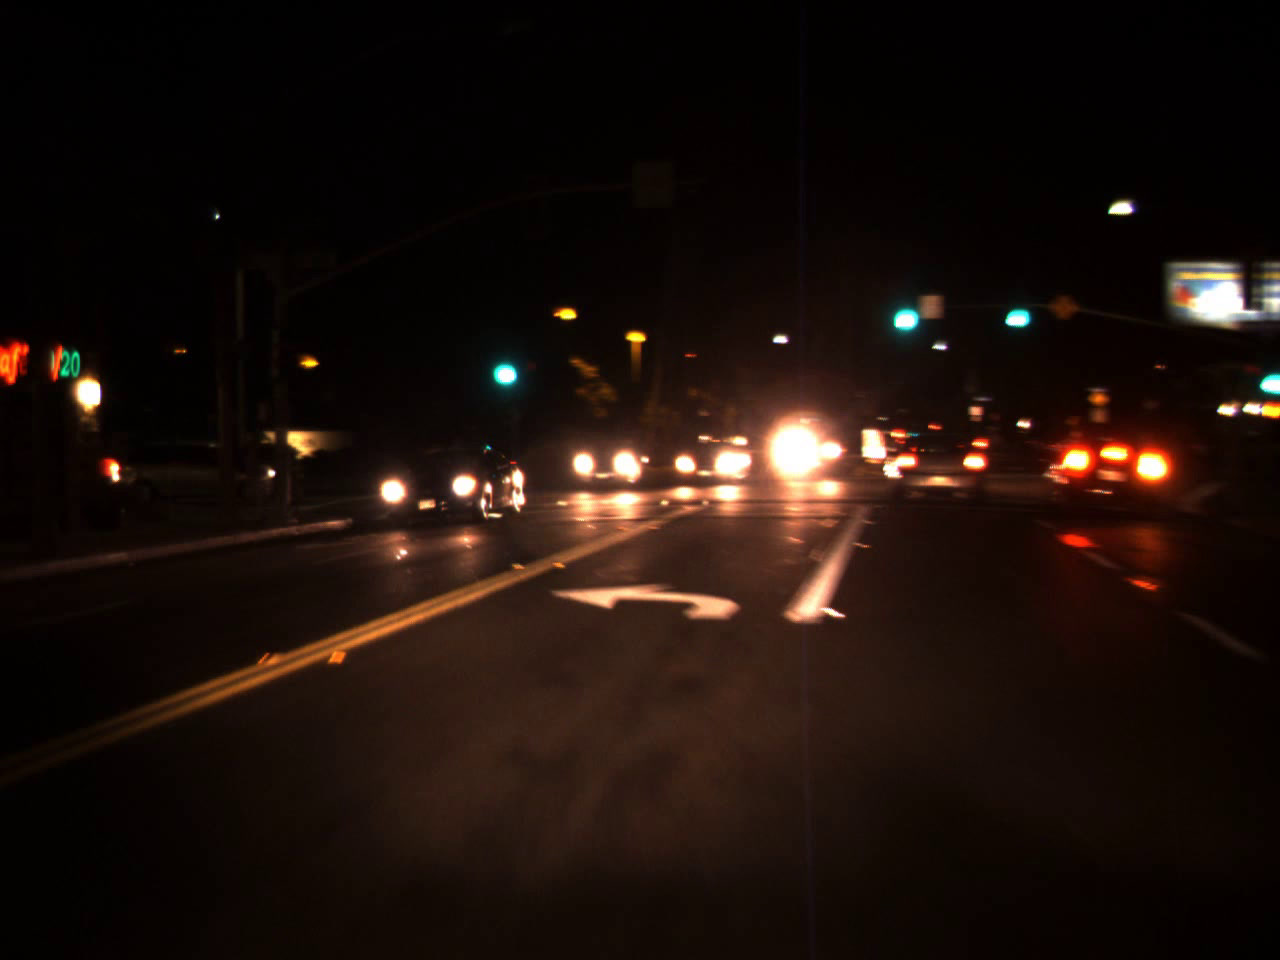go: (483, 336, 522, 393), (886, 284, 920, 338), (996, 287, 1032, 332), (1253, 363, 1280, 396)
